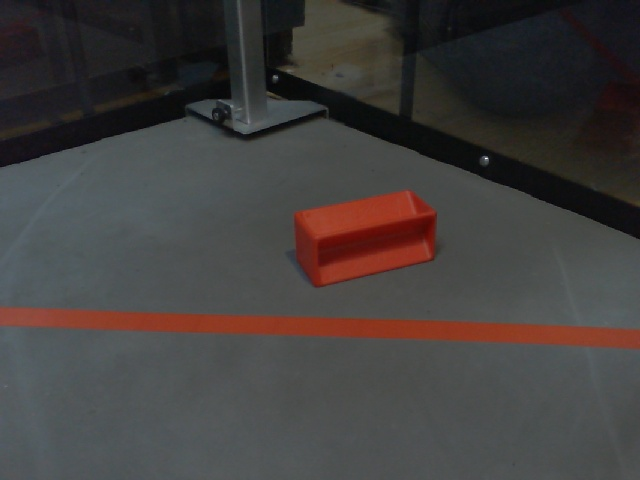RedSample: (293, 187, 440, 290)
